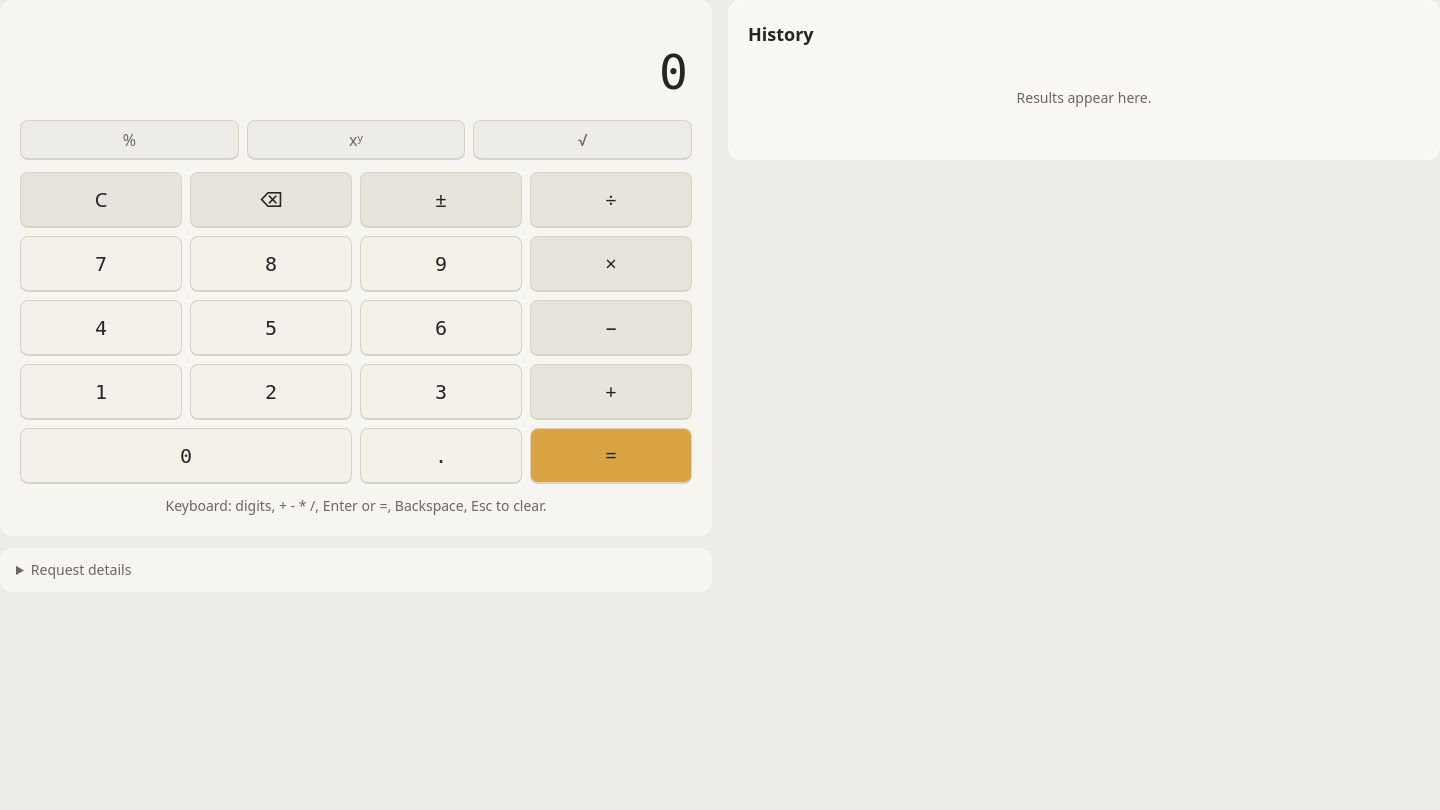
Test: Calculator › main flows › calculates 2 + 3 = 5
Click the button "2" at (271, 392), box top-left (190, 364), bottom-right (352, 420)
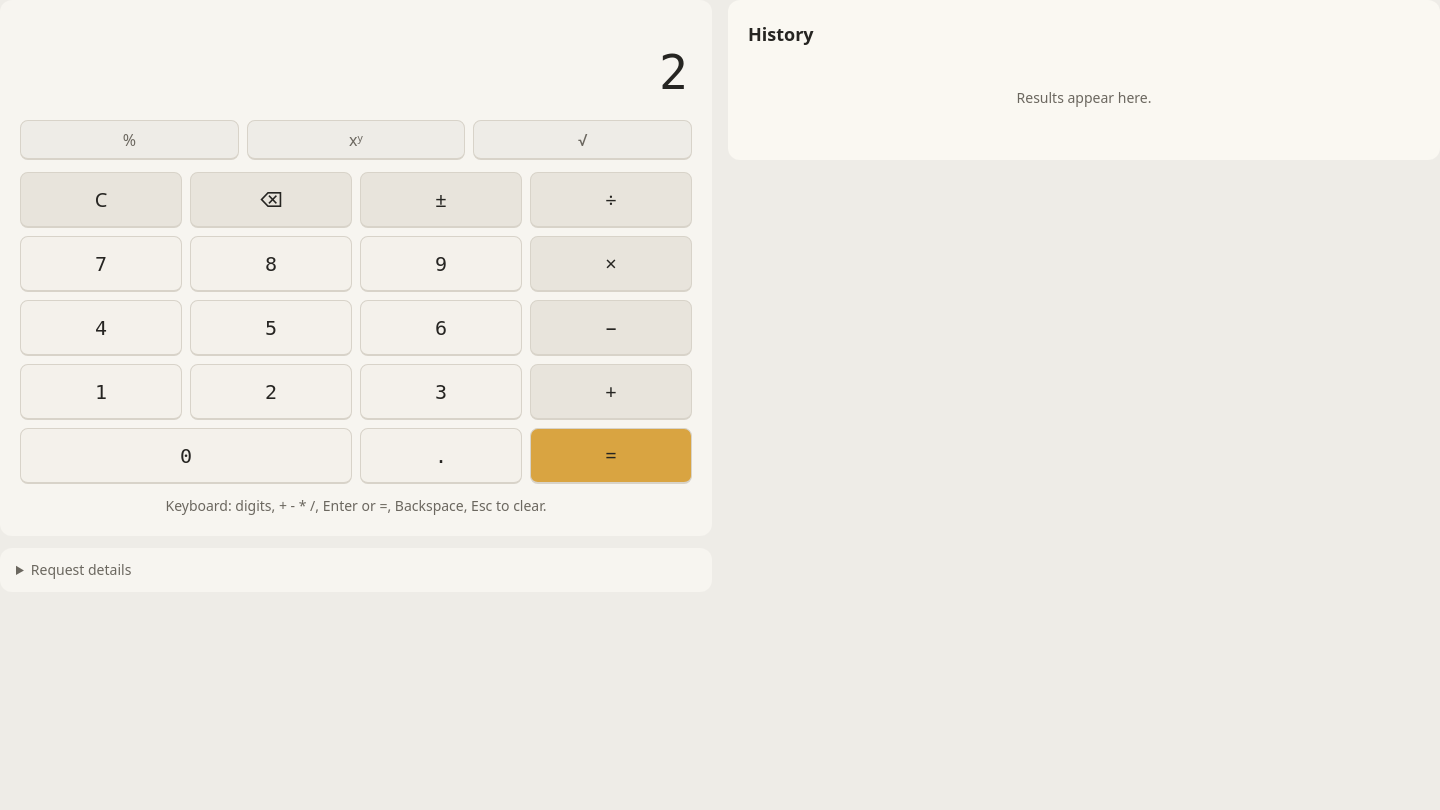
Click the button named "Add" at (611, 392), box top-left (530, 364), bottom-right (692, 420)
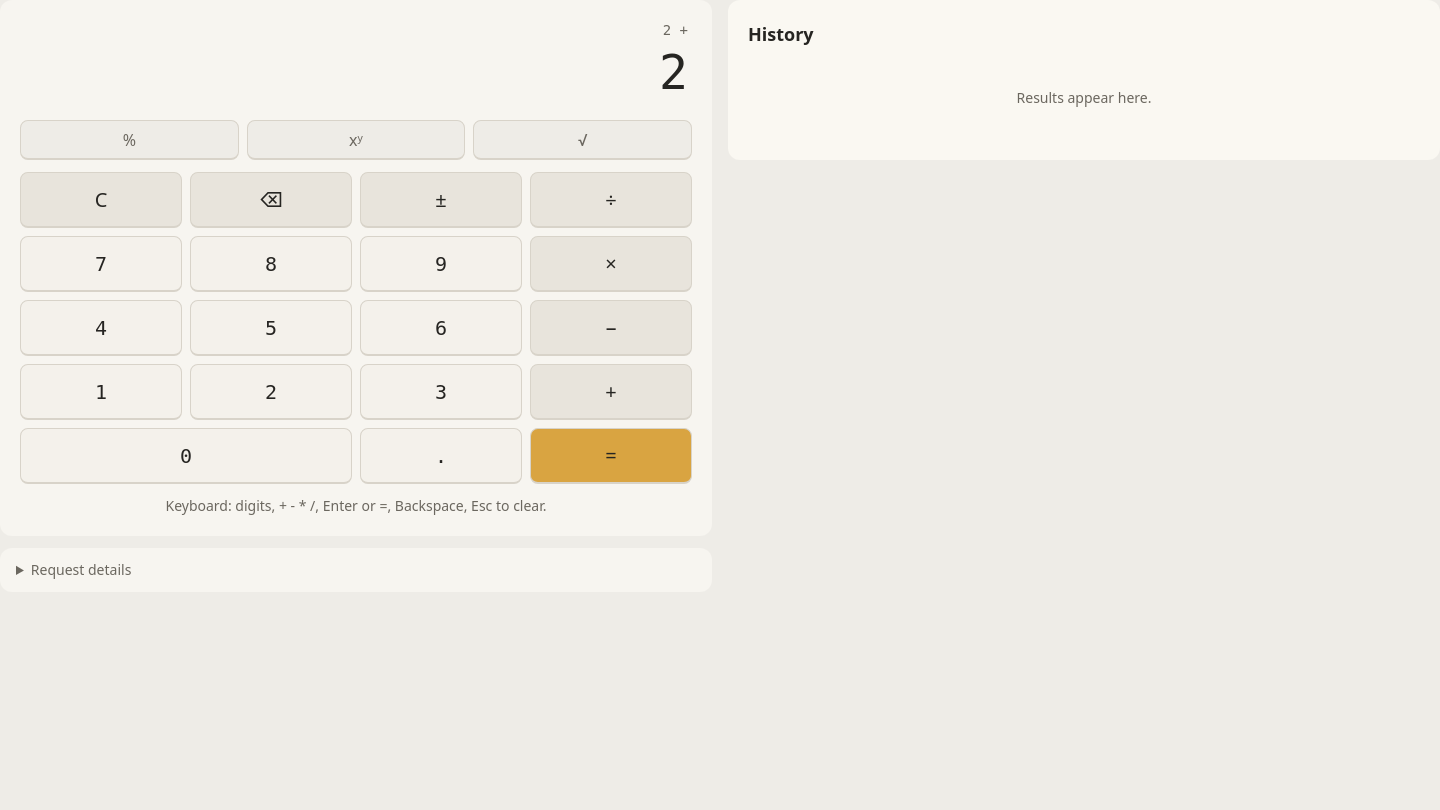
Click the button "3" at (441, 392), box top-left (360, 364), bottom-right (522, 420)
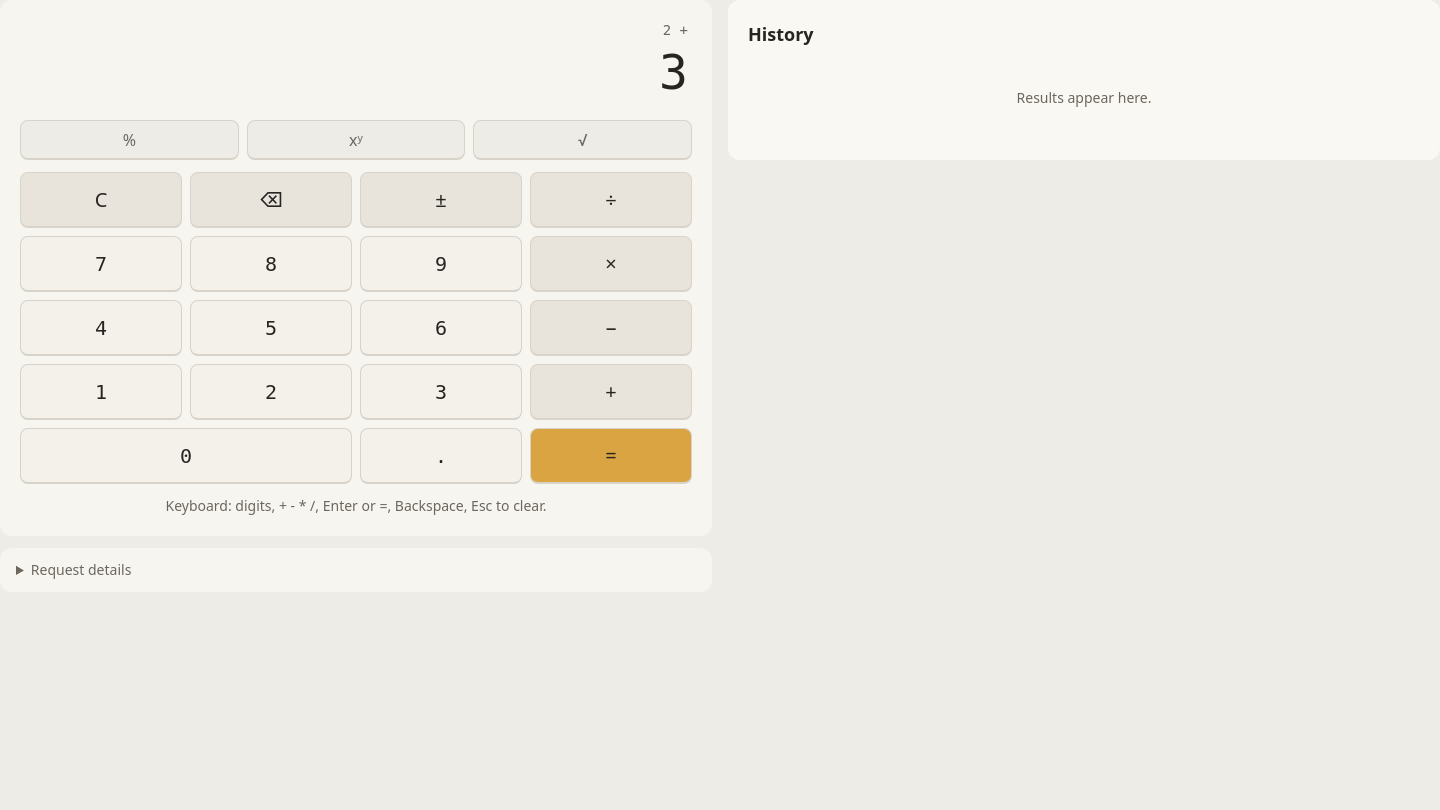
Click the button named "Equals" at (611, 456), box top-left (530, 428), bottom-right (692, 484)
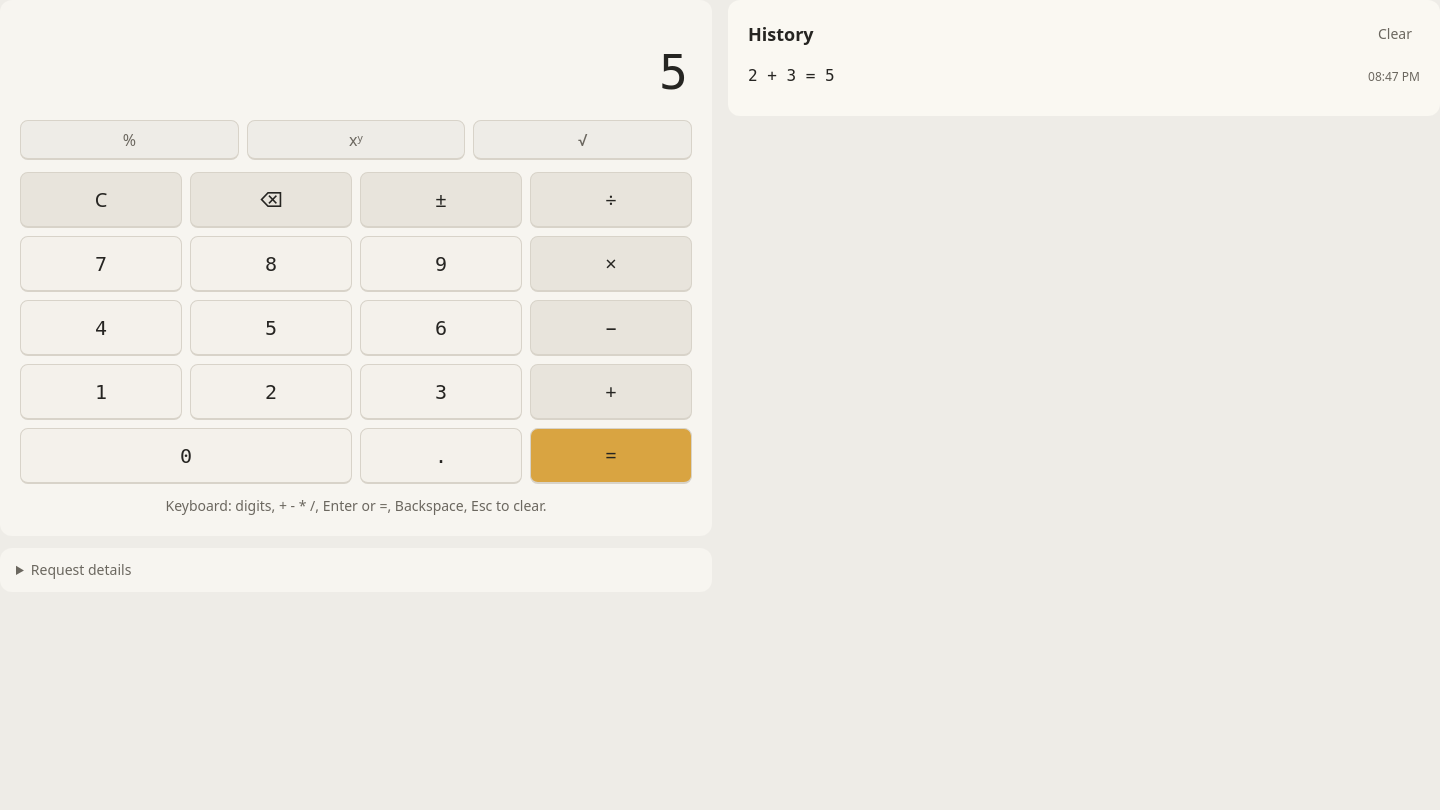
Result: the button named "Use result: 2 + 3 = 5" reads "2 + 3 = 5" at top-left (744, 64), bottom-right (839, 88)
Result: the text with test id "display-value" reads "5" at top-left (659, 44), bottom-right (688, 100)
